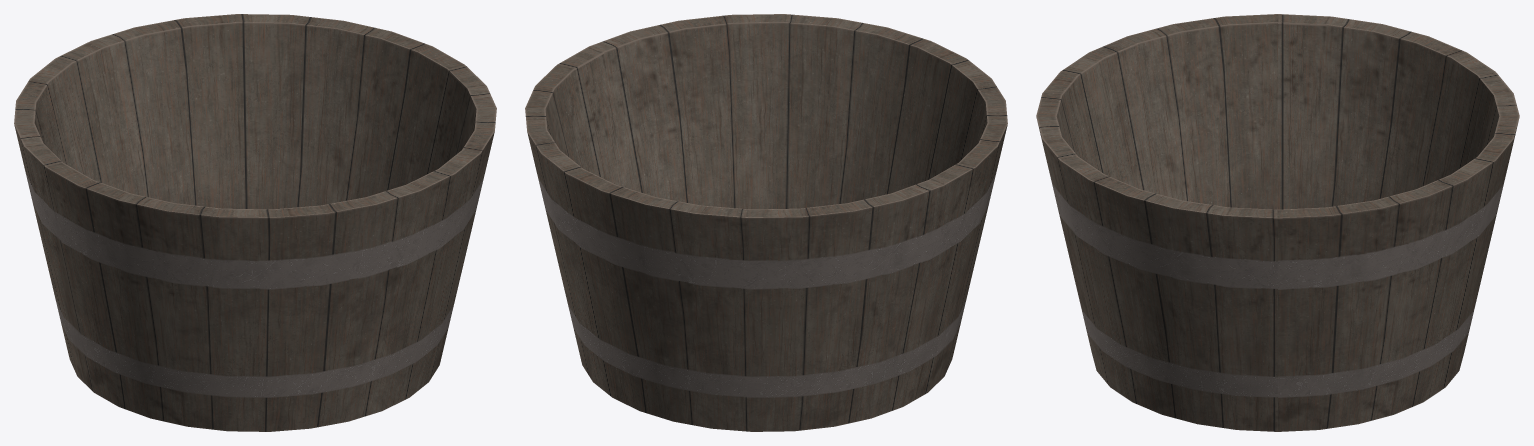
The model's file is bucket_small.fbx.
The picture shows the model from 3 angles, left to right: view 1: azimuth 30°, elevation 25°; view 2: azimuth 150°, elevation 25°; view 3: azimuth 270°, elevation 25°; orthographic projection.
Parts seen in each view (by area): view 1: bucket_small; view 2: bucket_small; view 3: bucket_small.
Boxes of the visible parts, left/top/right/bottom form: bucket_small: left=14, top=14, right=496, bottom=431; bucket_small: left=525, top=14, right=1007, bottom=431; bucket_small: left=1036, top=14, right=1519, bottom=431.
Bounding box in the file's own units: 91.22 × 49.35 × 91.22.
